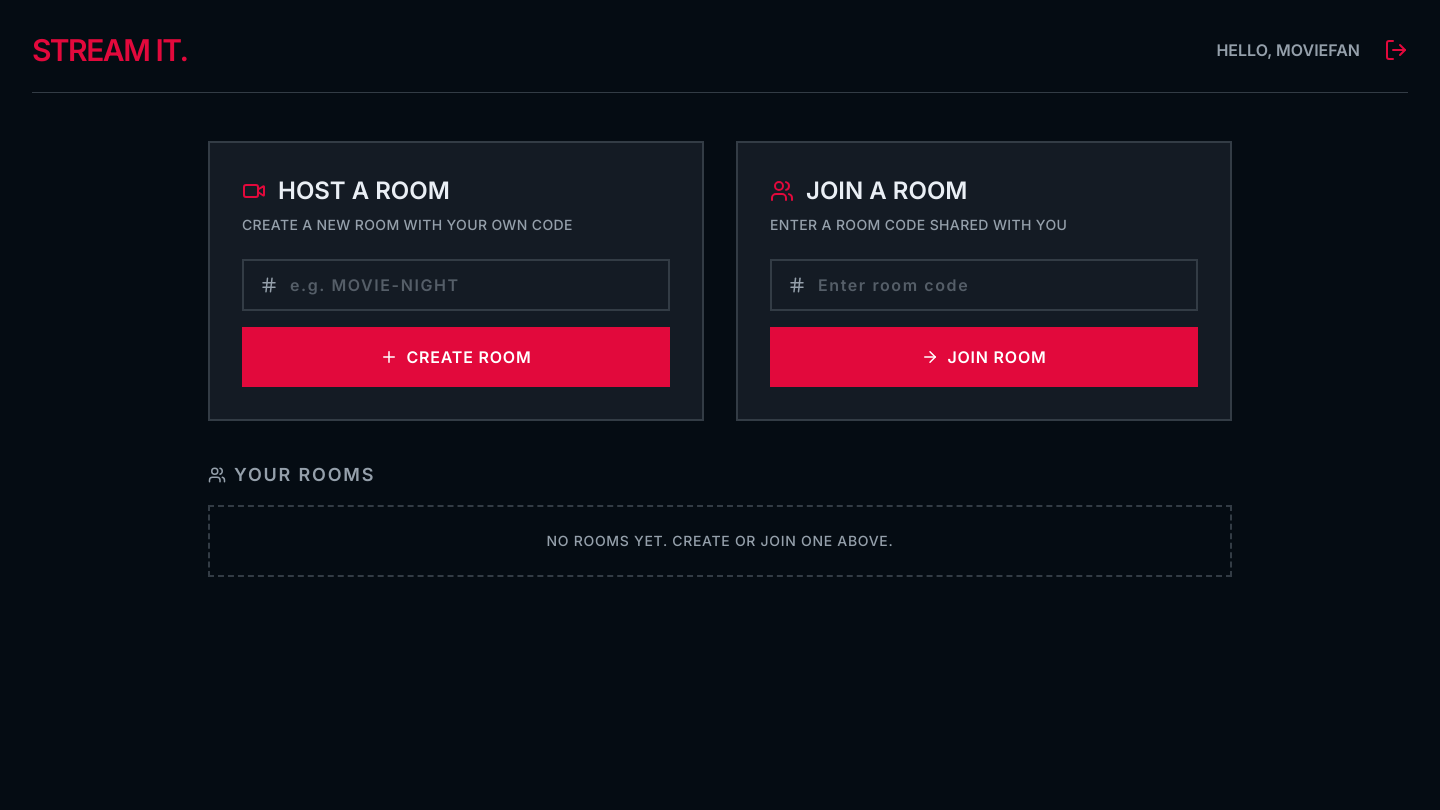
Test: Home Component › displays error message when room creation encounters a network error
Type "NEW-ROOM" into the field with placeholder "e.g. MOVIE-NIGHT" at (471, 285), box top-left (290, 273), bottom-right (652, 297)
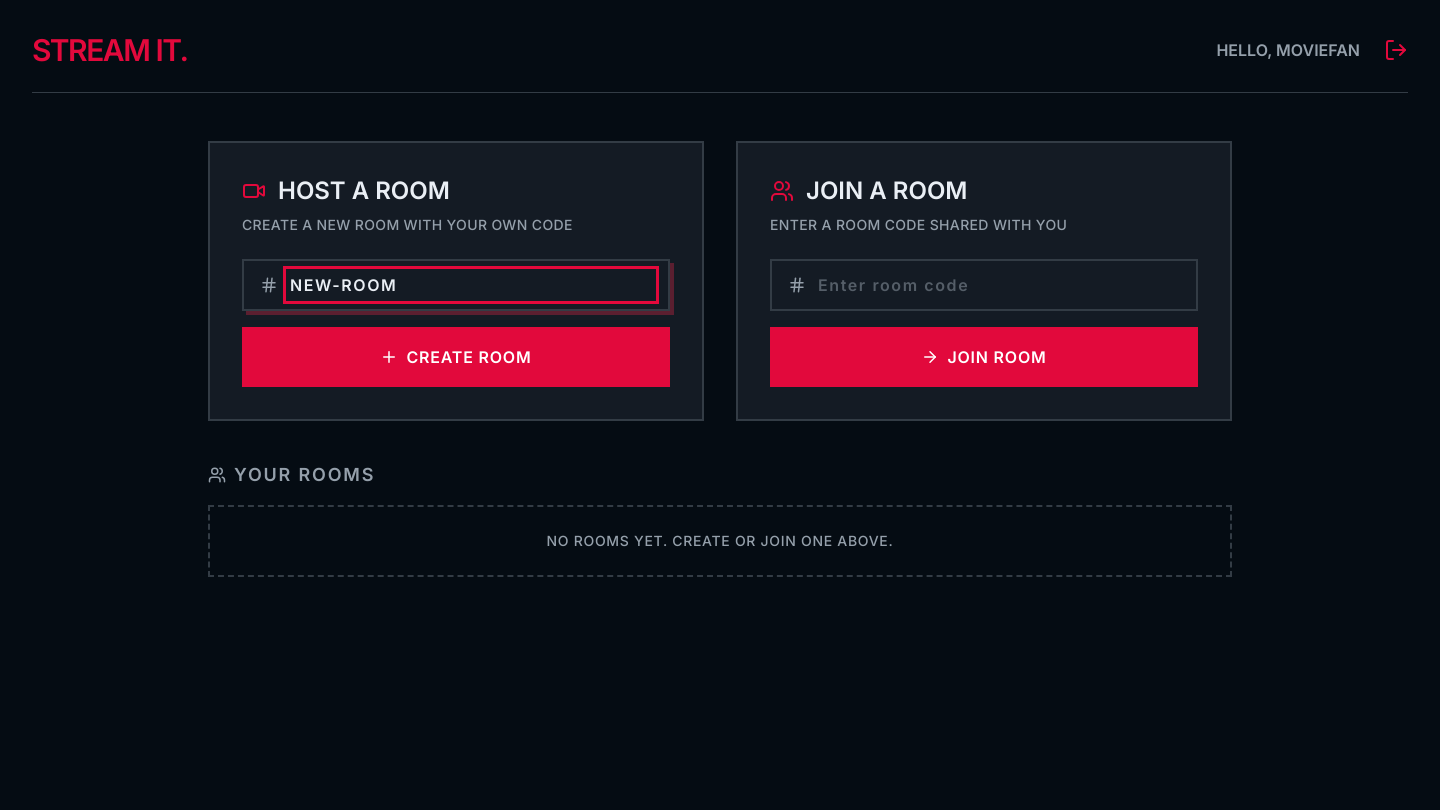
Click the button "Create Room" at (456, 357), box top-left (242, 327), bottom-right (670, 387)
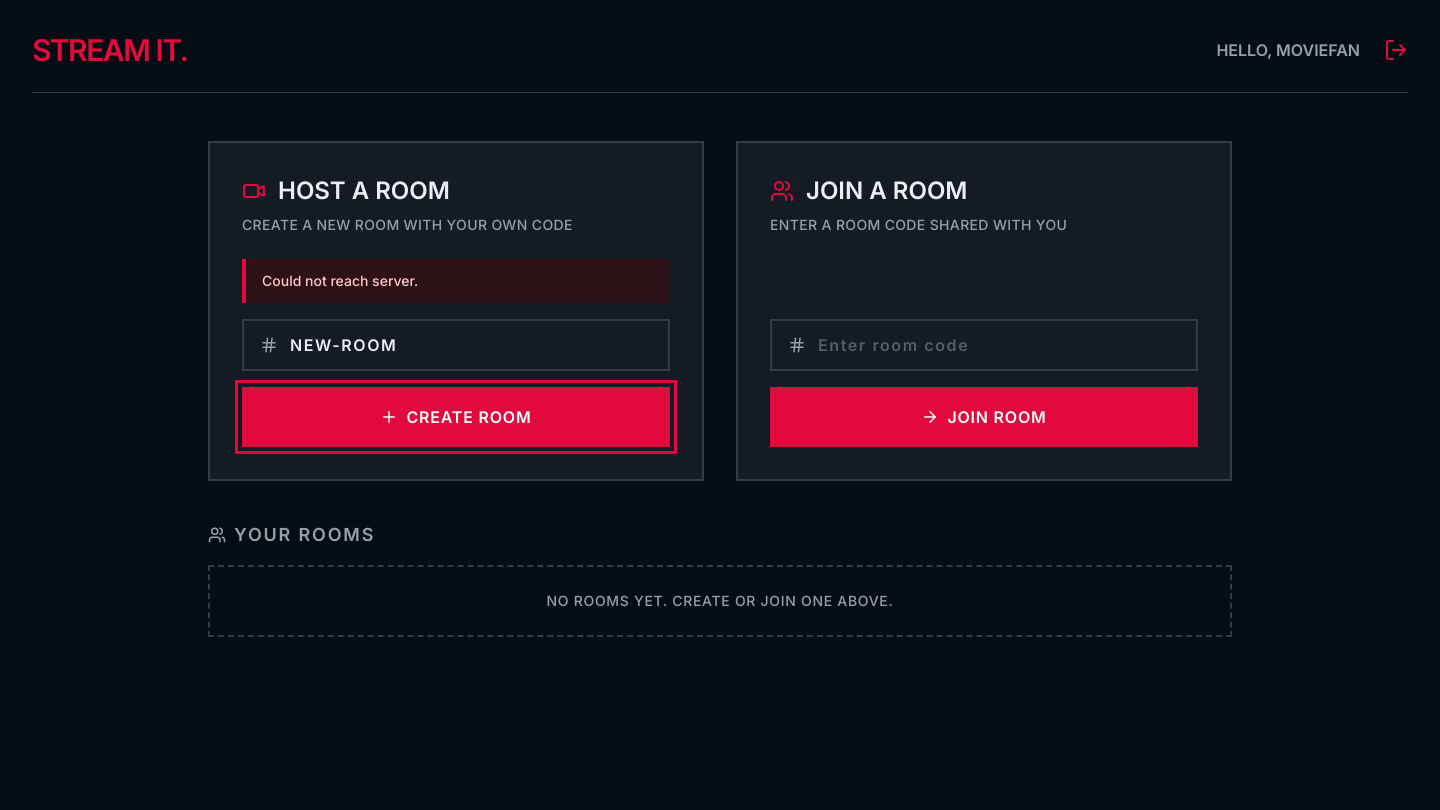
Result: the text "Could not reach server." is shown at top-left (242, 259), bottom-right (670, 303)
